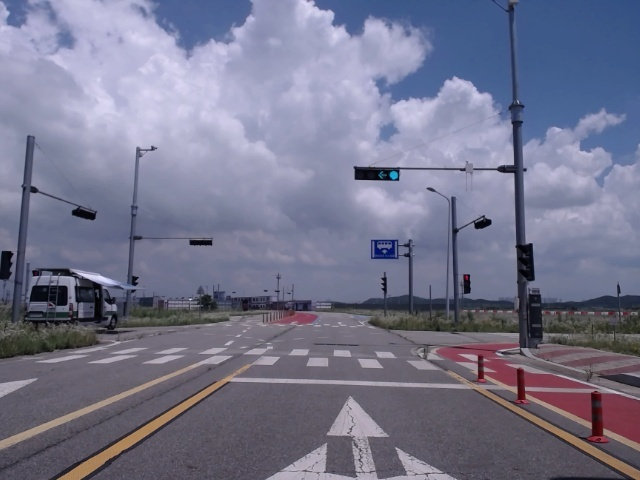all_green_4: (353, 166, 405, 185)
